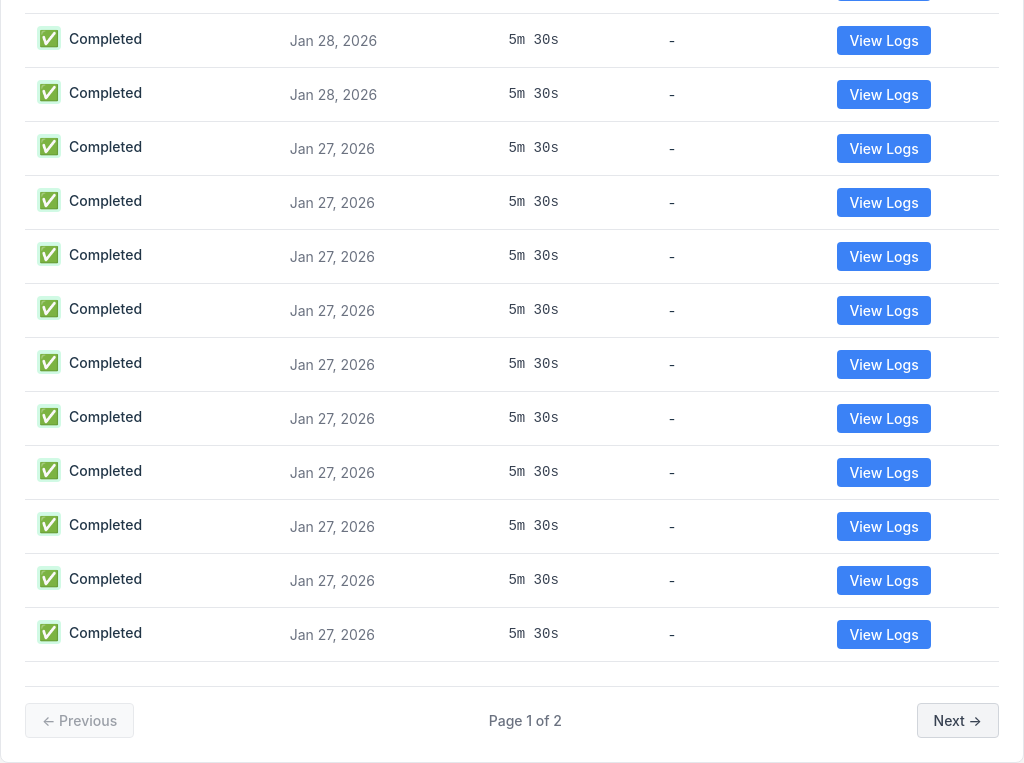
Scenario: BuildHistory › handles pagination correctly with >50 builds
The width and height of the screenshot is (1024, 763).
(page scrolled)
Expected: the text "Page 1 of 2" is shown, [489,710,562,731]
# Click next page
Click the button "Next →": (958, 720) [917,703,999,738]
(page scrolled)
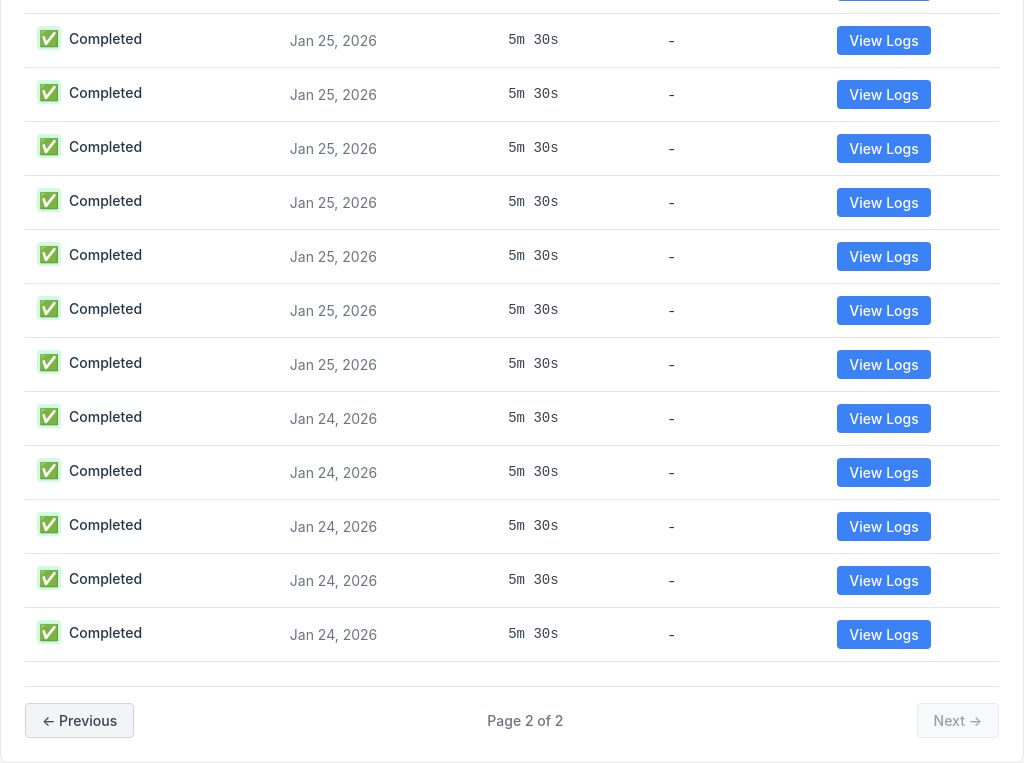
Result: the text "Page 2 of 2" is shown at [487,710,563,731]
